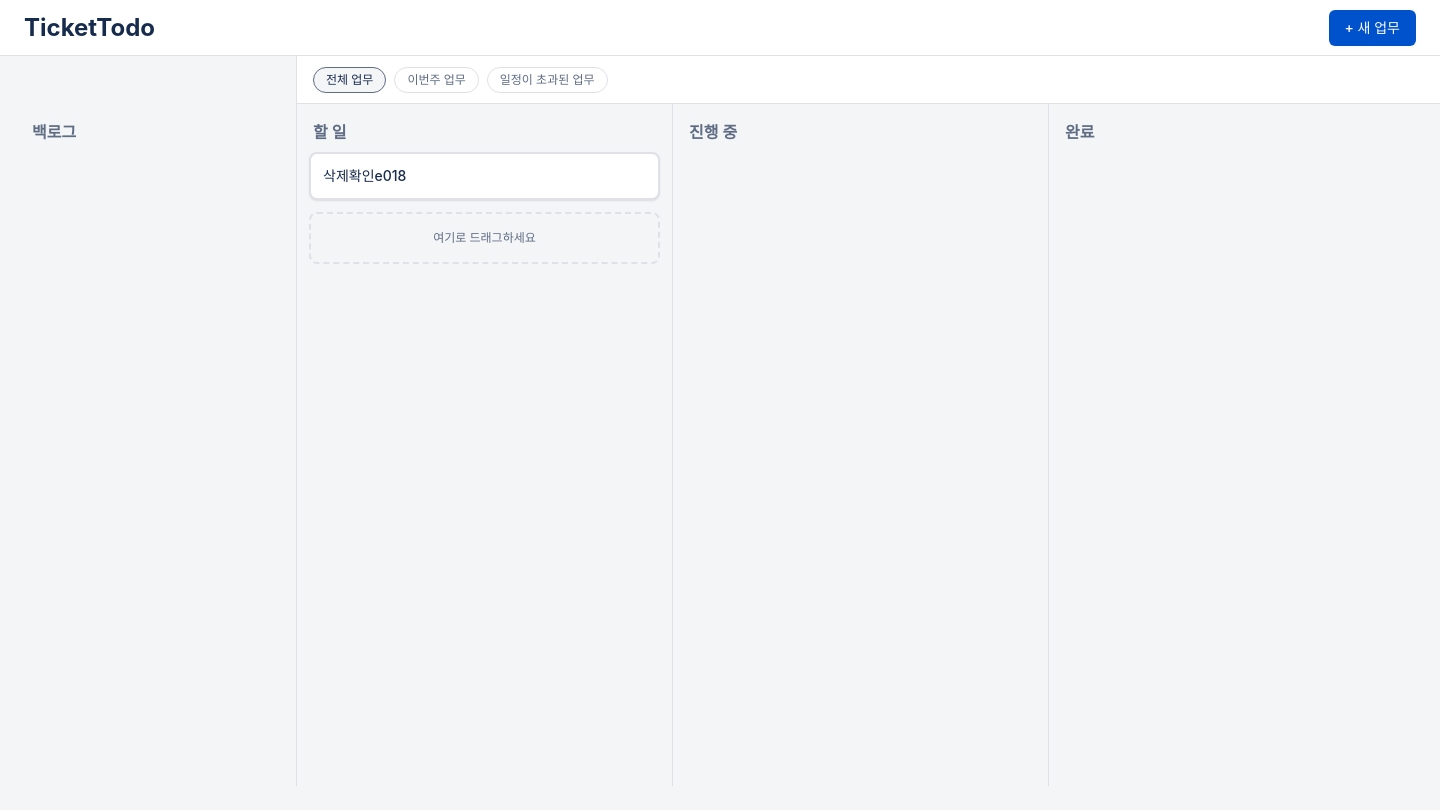
Test: 시나리오 E — 티켓 삭제 › TC-INT-018: 삭제 버튼 → ConfirmDialog 표시
Expected: the text "삭제확인e018" is shown, [323,167,406,184]
Click the list item "삭제확인e018" at (365,176), box [309,152,660,200]
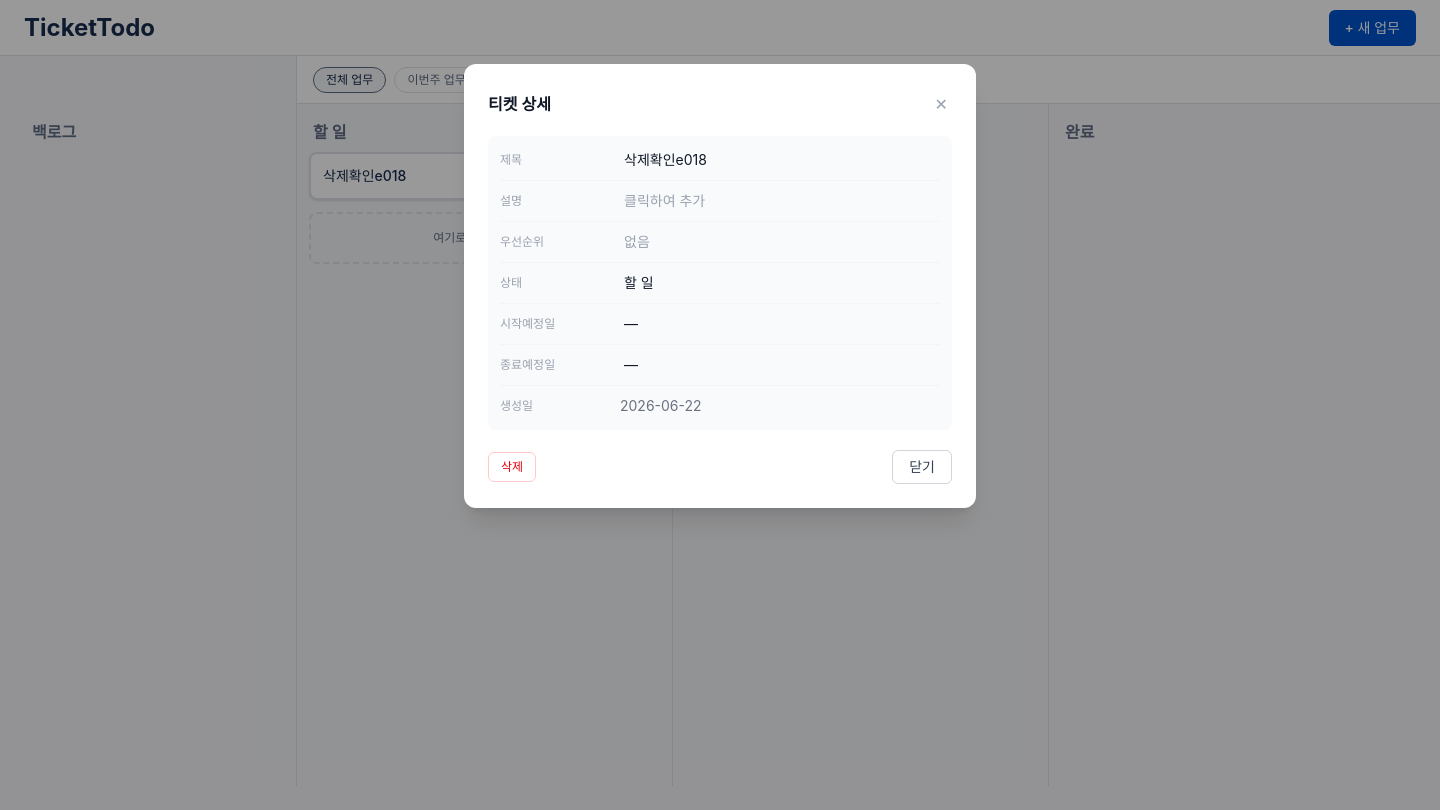
Expected: the dialog is shown
Click the button "삭제" at (512,467), box [488,452,536,482]
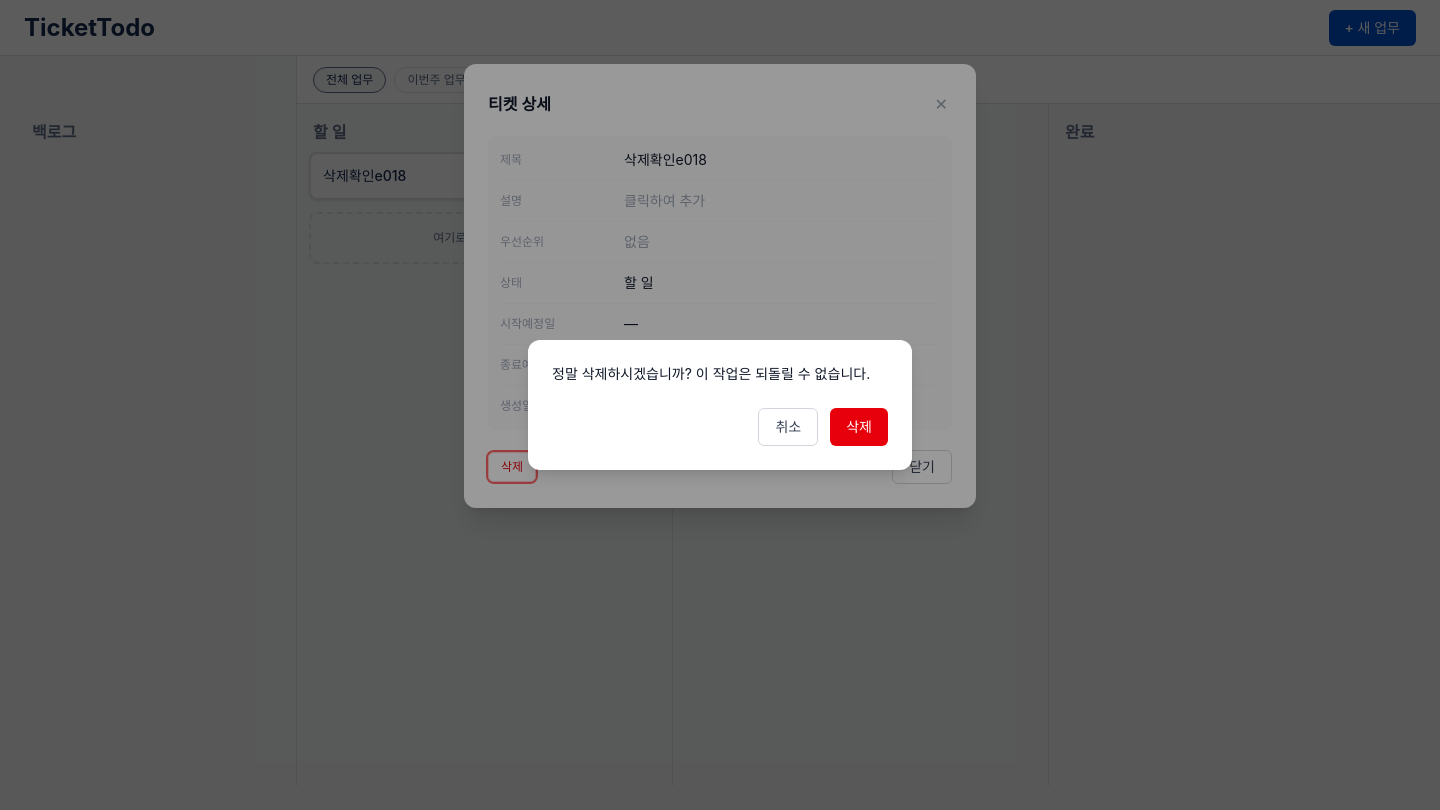
Expected: the dialog is shown
Expected: the text "정말 삭제하시겠습니까? 이 작업은 되돌릴 수 없습니다." is shown, [552,364,888,384]
